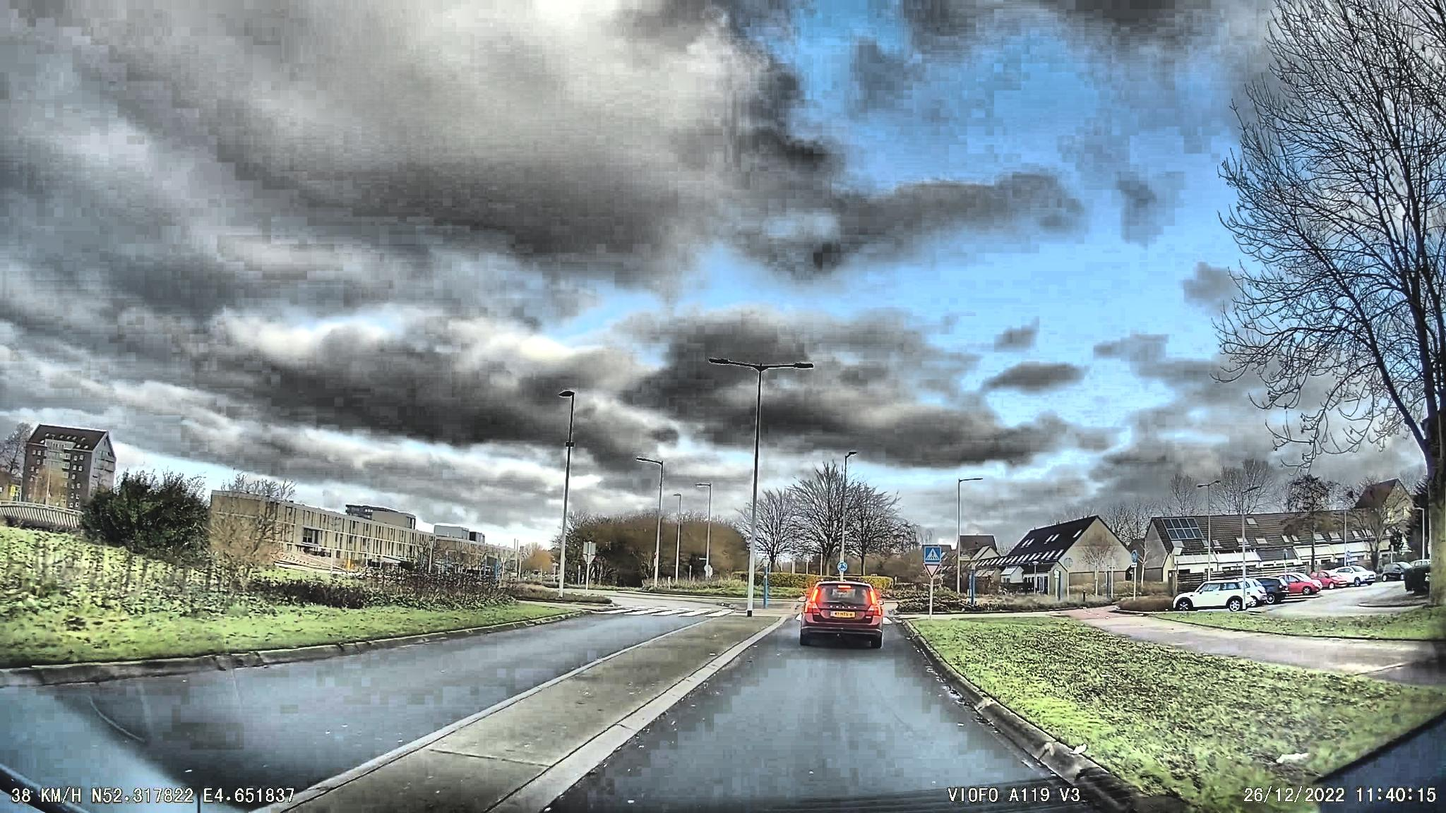Roads: (0, 616, 1127, 813)
